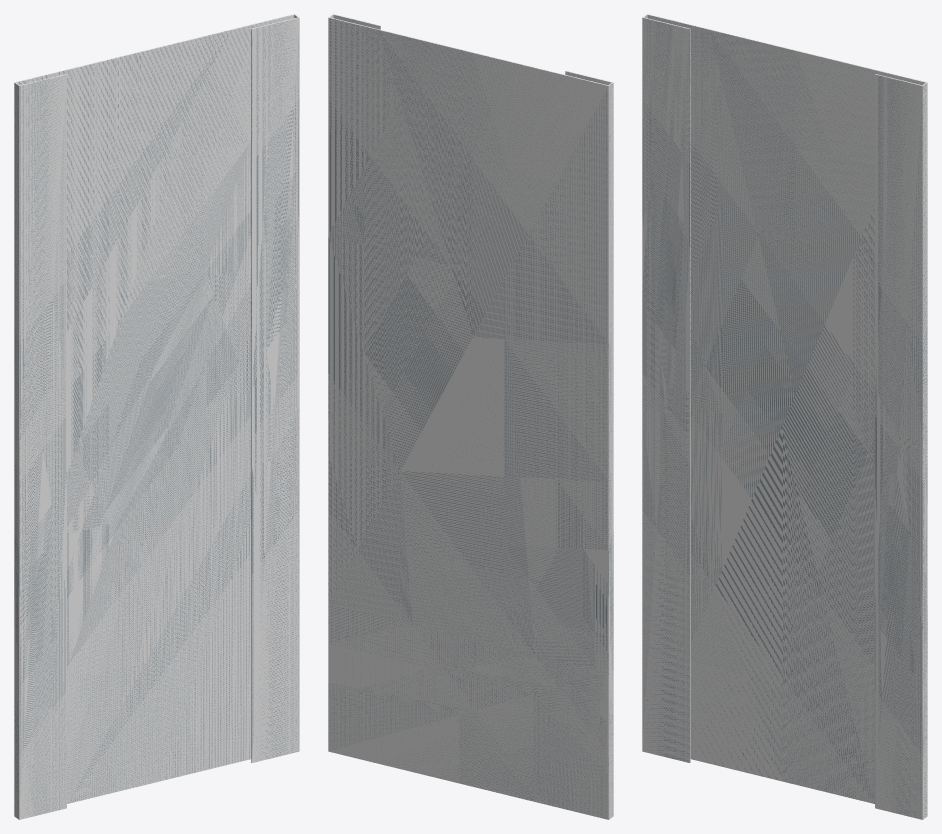
3 renders of one model, left to right at view 1: azimuth 30°, elevation 25°; view 2: azimuth 150°, elevation 25°; view 3: azimuth 330°, elevation 25°, orthographic.
Visible parts, largest first — view 1: group_0; view 2: group_0; view 3: group_0.
Boxes of the visible parts, x1,y1,x2,y2 form: group_0: (14, 14, 299, 819); group_0: (328, 14, 613, 819); group_0: (642, 14, 927, 819).
Size of the model in its own units: 11.81 by 0.3622 by 29.53.
